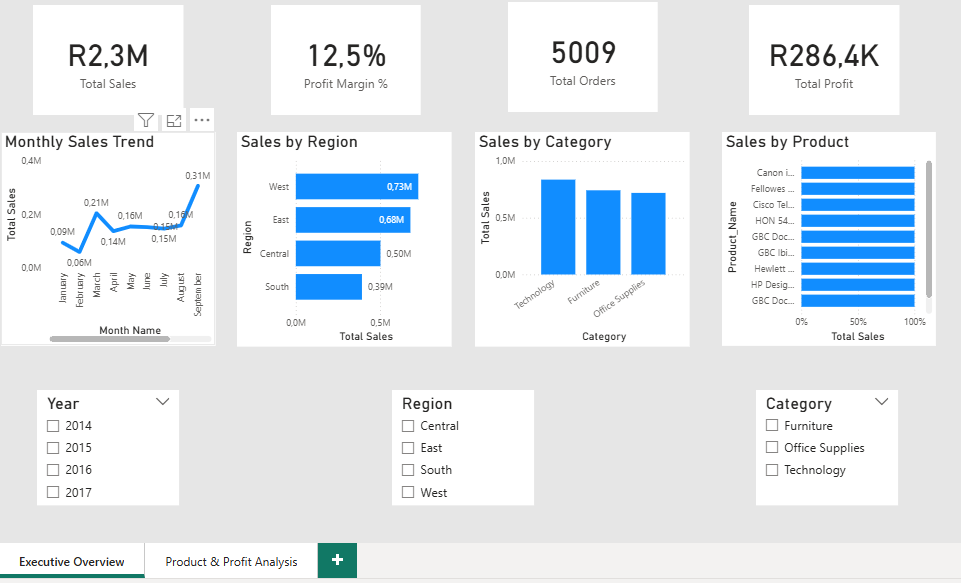

The dashboard page shown, as its layout file describes it:
{"tool":"powerbi","page":{"name":"Executive Overview","canvas":[1280,720],"ordinal":0},"visuals":[{"type":"card","fields":{"Values":["Sample - Superstore.Total Sales"]},"box":[52.1,15.1,196.5,144.5],"z":0},{"type":"card","fields":{"Values":["Sample - Superstore.Profit Margin %"]},"box":[364.5,15.1,196,144],"z":1000},{"type":"card","fields":{"Values":["Sample - Superstore.Total Orders"]},"box":[673.6,11.8,196,144],"z":2000},{"type":"card","fields":{"Values":["Sample - Superstore.Total Profit"]},"box":[989.4,15.1,196.5,144.5],"z":3000},{"type":"lineChart","title":"Monthly Sales Trend","fields":{"Category":["Sample - Superstore.Month Name"],"Y":["Sample - Superstore.Total Sales"]},"box":[10.1,181.4,280.5,280],"z":4000},{"type":"clusteredBarChart","title":"Sales by Region","fields":{"Category":["Sample - Superstore.Region"],"Y":["Sample - Superstore.Total Sales"]},"box":[319.2,181.4,280.5,280.5],"z":5000},{"type":"clusteredColumnChart","title":"Sales by Category","fields":{"Category":["Sample - Superstore.Category"],"Y":["Sample - Superstore.Total Sales"]},"box":[631.6,181.4,280.5,280.5],"z":6000},{"type":"hundredPercentStackedBarChart","title":"Sales by Product","fields":{"Category":["Sample - Superstore.Product_Name"],"Y":["Sample - Superstore.Total Sales"]},"box":[954.1,181.4,280,280],"z":7000},{"type":"slicer","fields":{"Values":["Sample - Superstore.Year"]},"box":[57.1,519.1,186.5,151.2],"z":8000},{"type":"slicer","fields":{"Values":["Sample - Superstore.Region"]},"box":[522.4,519.1,186.5,151.2],"z":9000},{"type":"slicer","fields":{"Values":["Sample - Superstore.Category"]},"box":[999.5,519.1,186.5,151.2],"z":10000}]}

Visuals, with their boxes on the page's 1280x720 design canvas (x1, y1, x2, y2). These are canvas units, not pixel positions in the 961x583 screenshot, which may show the page scaled, cropped or inside an application window:
card - Sample - Superstore.Total Sales: (52,15,249,160)
card - Sample - Superstore.Profit Margin %: (364,15,560,159)
card - Sample - Superstore.Total Orders: (674,12,870,156)
card - Sample - Superstore.Total Profit: (989,15,1186,160)
"Monthly Sales Trend" lineChart: (10,181,291,461)
"Sales by Region" clusteredBarChart: (319,181,600,462)
"Sales by Category" clusteredColumnChart: (632,181,912,462)
"Sales by Product" hundredPercentStackedBarChart: (954,181,1234,461)
slicer - Sample - Superstore.Year: (57,519,244,670)
slicer - Sample - Superstore.Region: (522,519,709,670)
slicer - Sample - Superstore.Category: (1000,519,1186,670)
